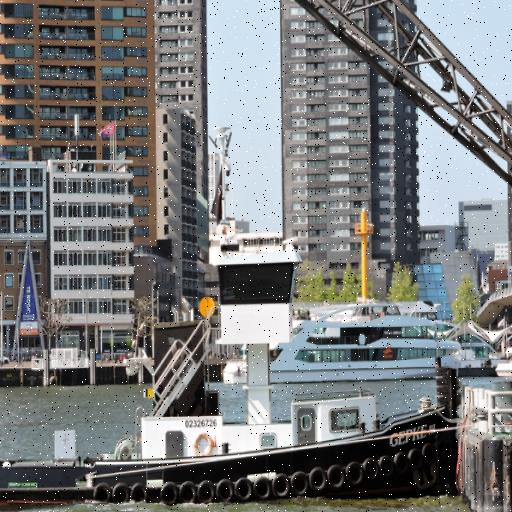tugboat: (1, 302, 464, 512)
